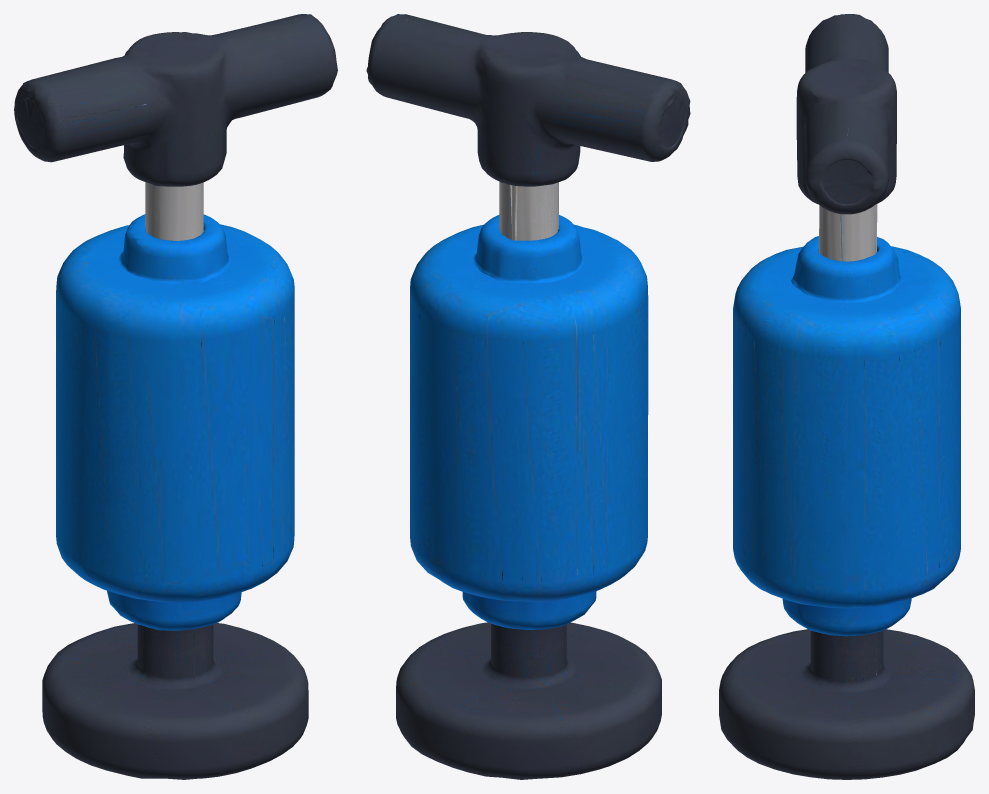
Rendered from stamp.glb.
3 views of the same model, side by side, from view 1: azimuth 30°, elevation 25°; view 2: azimuth 150°, elevation 25°; view 3: azimuth 270°, elevation 25° (orthographic). The views are drawn at different scales.
Parts seen in each view (by area): view 1: geometry_0; view 2: geometry_0; view 3: geometry_0.
Part boxes in pixels (x1,y1,x2,y2): geometry_0: [14, 14, 337, 779]; geometry_0: [366, 14, 690, 779]; geometry_0: [719, 14, 974, 779].
Size of the model in its own units: 0.4263 by 0.9507 by 0.3364.
Materials: 1 (1 with a texture image).
